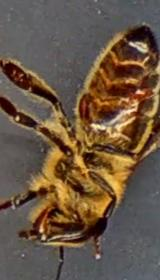varroa_mite: (74, 88, 94, 122), (126, 83, 155, 103)
